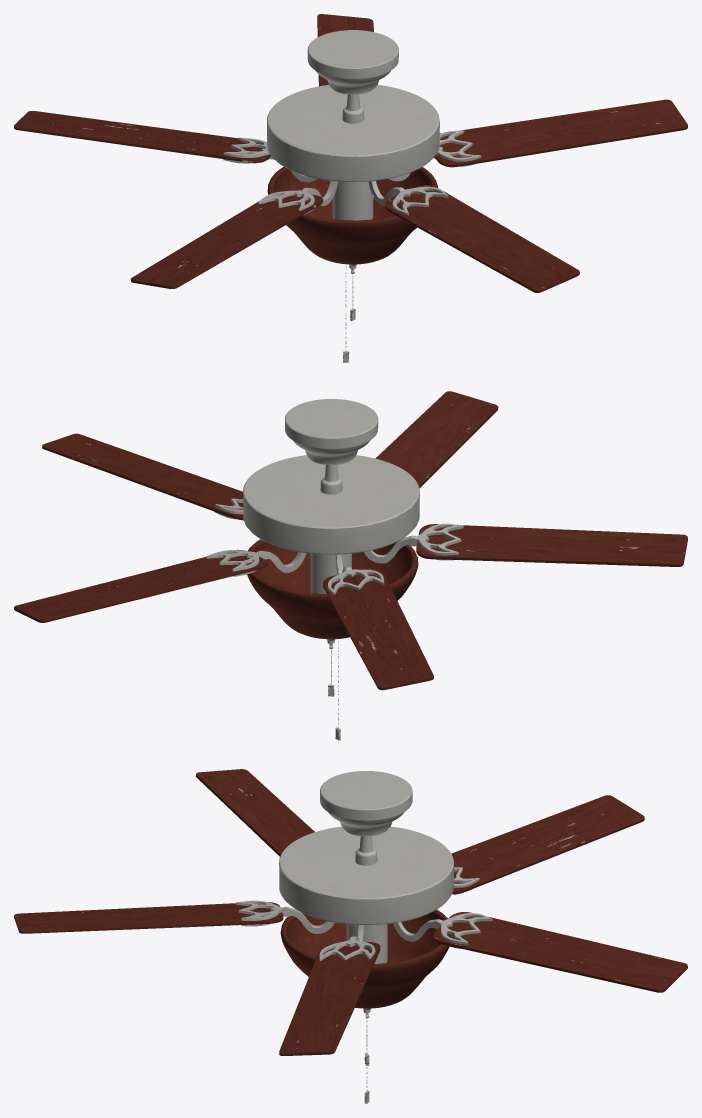
File: ceiling-fan.glb
The picture shows the model from 3 angles, top to bottom: view 1: azimuth 30°, elevation 25°; view 2: azimuth 150°, elevation 25°; view 3: azimuth 270°, elevation 25°; orthographic projection. The views are drawn at different scales.
Visible parts, largest first — view 1: polySurface97_geo1, polySurface91_geo, polySurface86_geo, polySurface87_geo, polySurface89_geo; view 2: polySurface97_geo1, polySurface91_geo, polySurface86_geo, polySurface87_geo, polySurface89_geo, polySurface85_geo; view 3: polySurface97_geo1, polySurface91_geo, polySurface86_geo, polySurface87_geo, polySurface89_geo, polySurface85_geo.
Boxes of the visible parts, box(x1,y1,x2,y2) form: polySurface97_geo1: box(14, 14, 687, 292); polySurface91_geo: box(267, 85, 439, 181); polySurface86_geo: box(267, 166, 437, 264); polySurface87_geo: box(307, 30, 398, 94); polySurface89_geo: box(332, 181, 373, 220); polySurface97_geo1: box(14, 391, 687, 690); polySurface91_geo: box(243, 455, 419, 554); polySurface86_geo: box(247, 539, 418, 639); polySurface87_geo: box(285, 399, 378, 464); polySurface89_geo: box(310, 553, 351, 594); polySurface85_geo: box(320, 465, 342, 494); polySurface97_geo1: box(14, 769, 687, 1055); polySurface91_geo: box(279, 826, 453, 924); polySurface86_geo: box(280, 909, 449, 1008); polySurface87_geo: box(320, 771, 412, 836); polySurface89_geo: box(346, 924, 387, 963); polySurface85_geo: box(355, 836, 377, 865).
Size of the model in its own units: 1.32 by 0.6753 by 1.3.
Materials: 1 (1 with a texture image).
